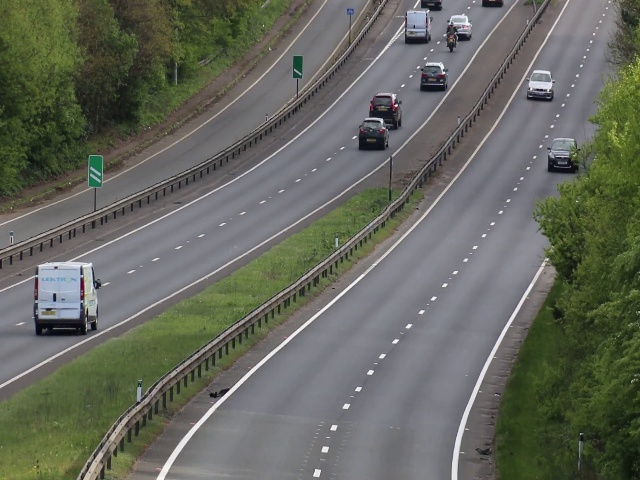car: (30, 261, 100, 334), (548, 131, 580, 176), (371, 92, 402, 130), (357, 119, 388, 153), (405, 8, 430, 44), (526, 69, 554, 101), (421, 61, 448, 93), (445, 12, 474, 38)
